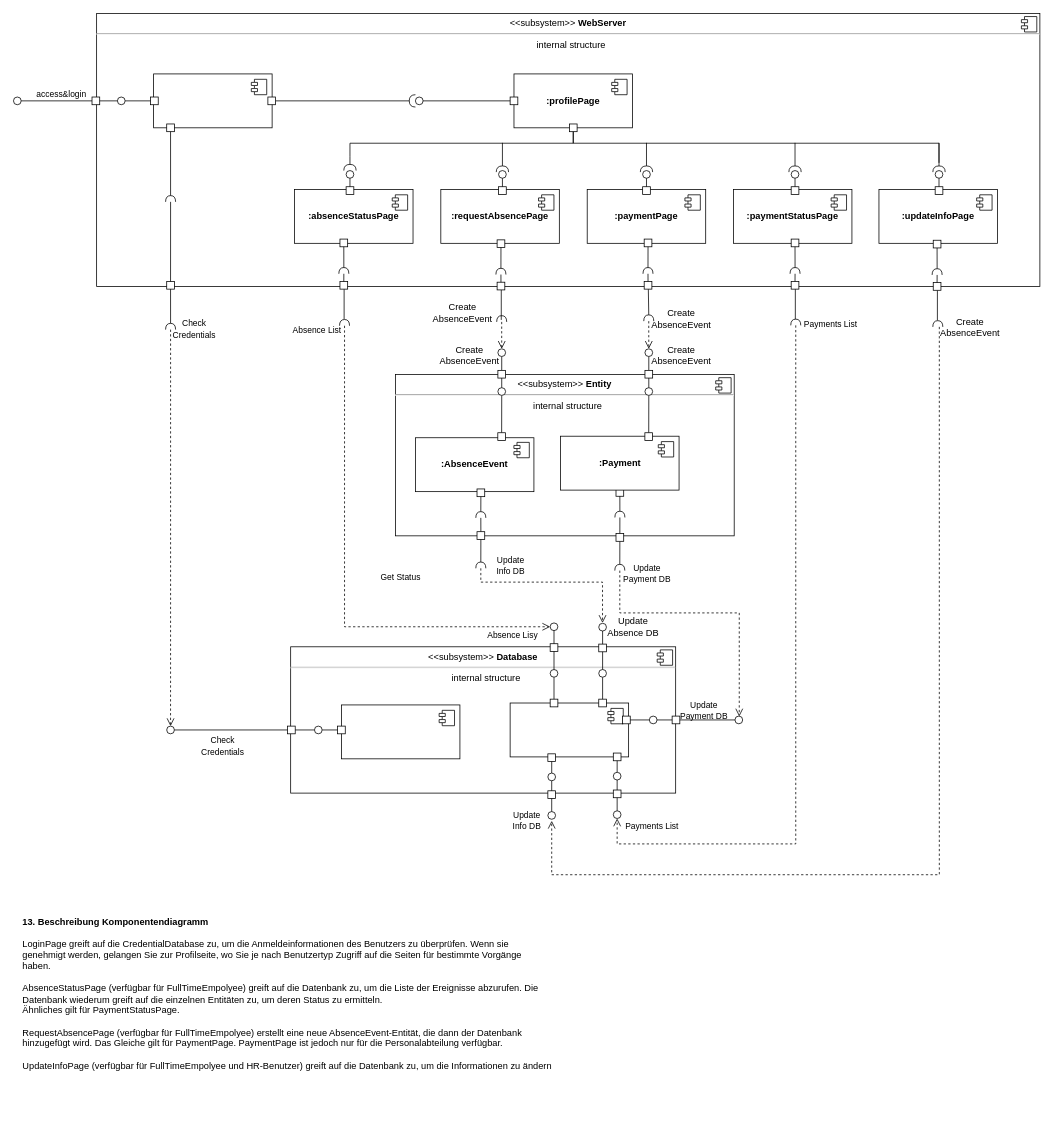
Some shapes in this 1053 by 1140 pixel diagram are drawn without their labels. The centre of each missing label's shape, as x and y in pixels:
:Credential DB: pixel 400 731
:Data Database: pixel 569 729
:loginPage: pixel 212 100
